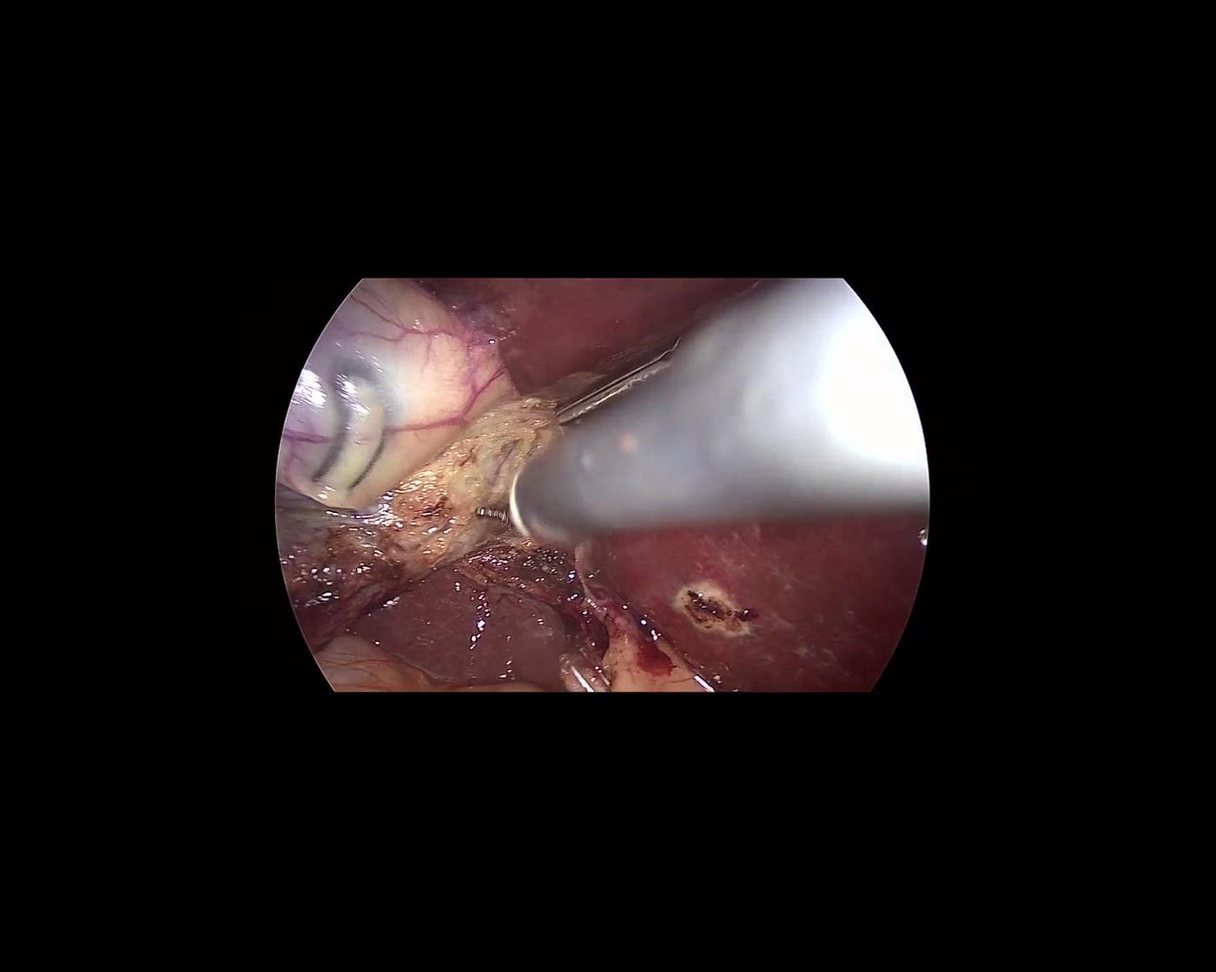Cautery: (459, 271, 929, 544)
Forceps: (550, 315, 730, 431)
Gallbladder: (176, 254, 588, 701)
Liver: (586, 515, 928, 693), (345, 537, 583, 724), (416, 277, 763, 396)
